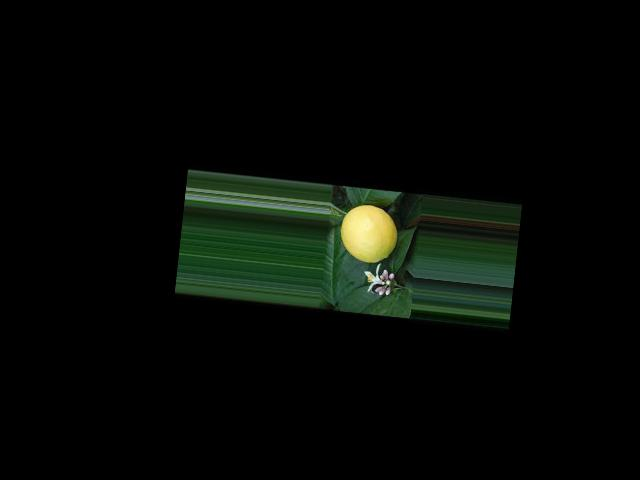lemon: (330, 194, 405, 271)
